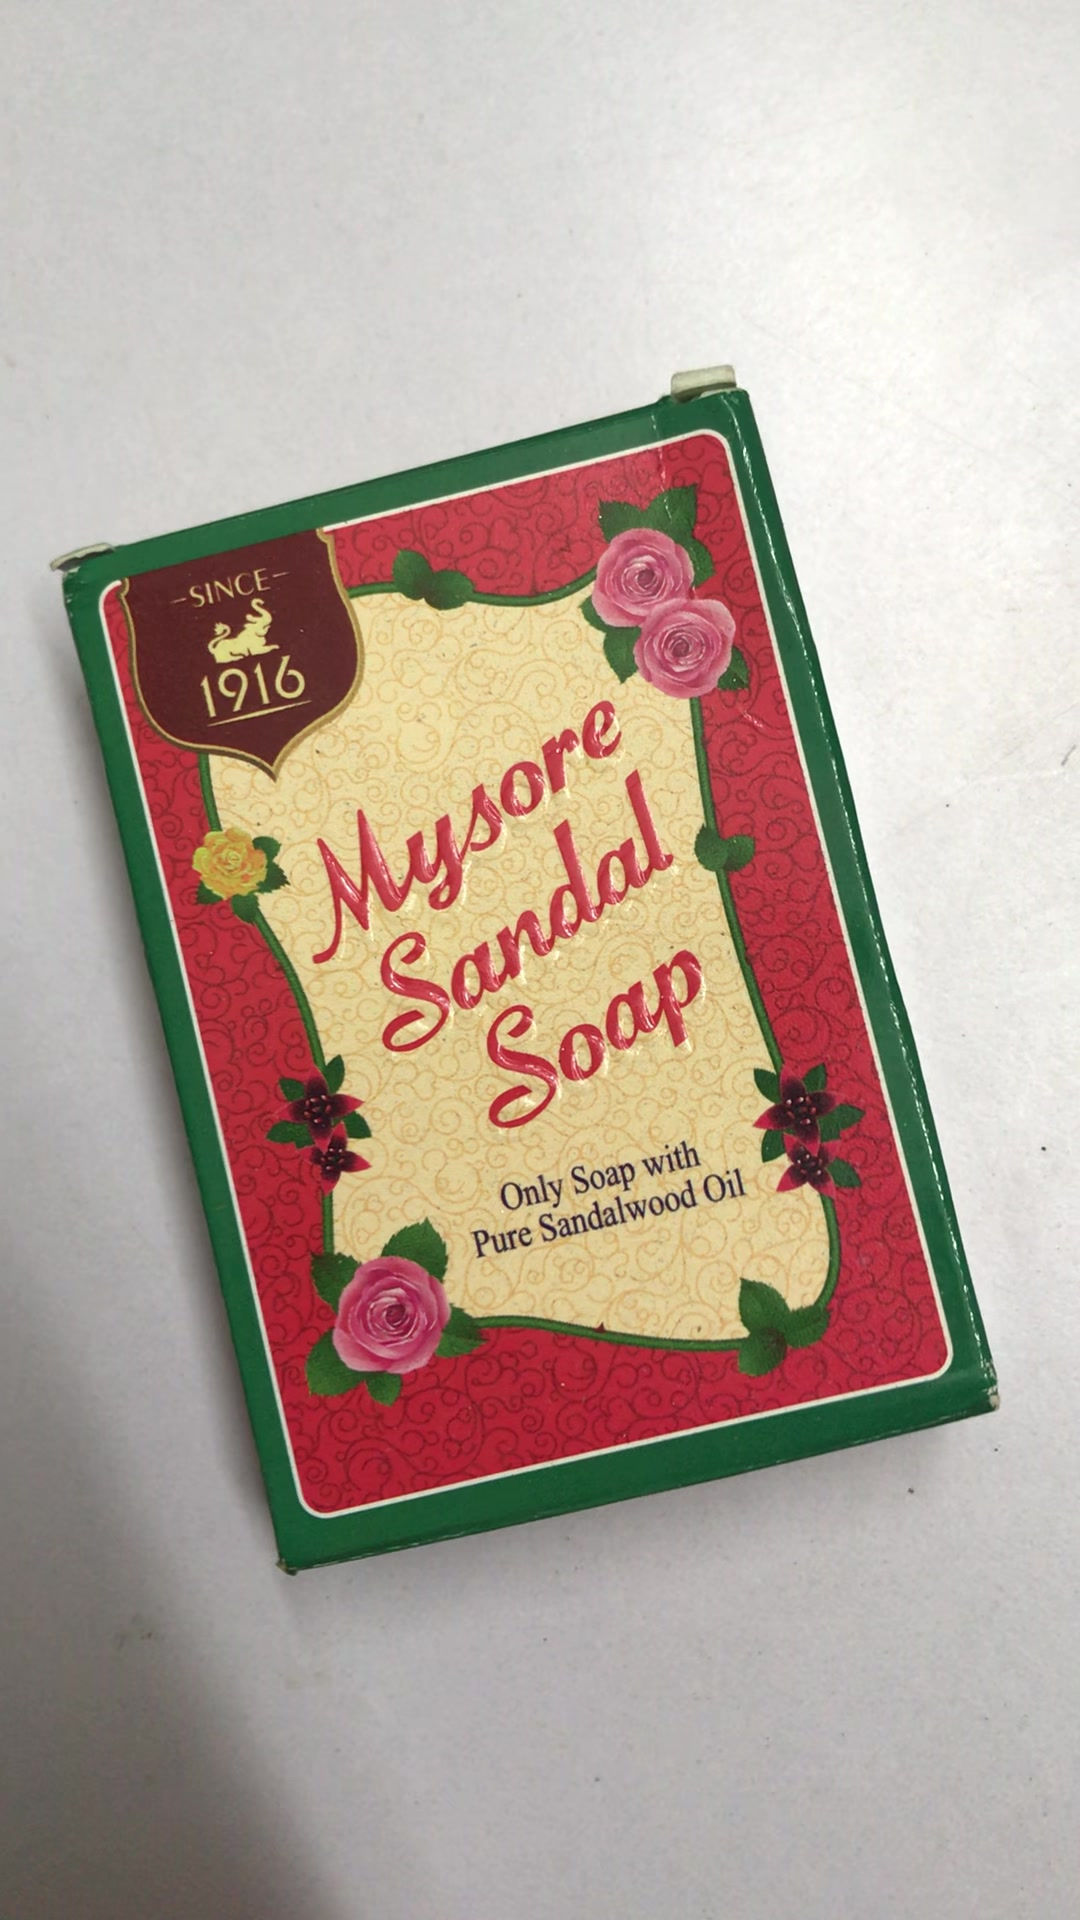mysore sandal soap: (61, 394, 1007, 1571)
